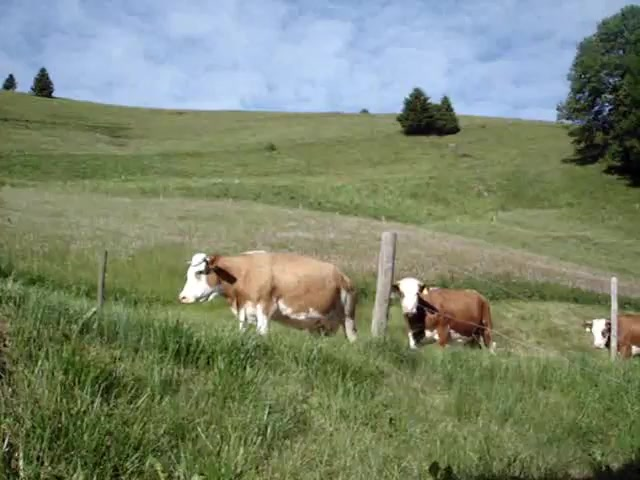cow: (179, 246, 363, 346)
